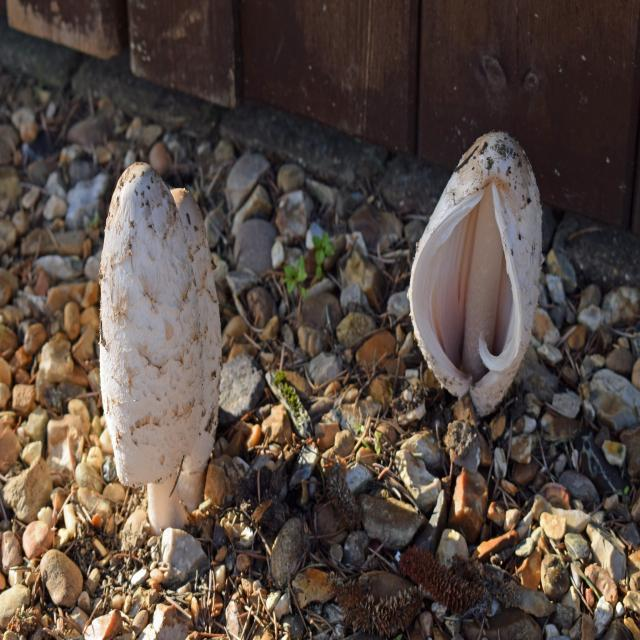Coprinus comatus: (100, 160, 221, 526), (414, 136, 540, 412)
